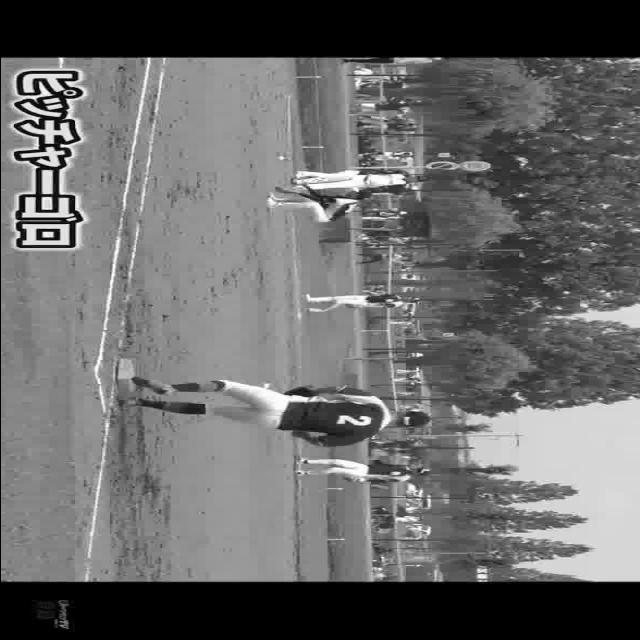base: (109, 359, 135, 402)
baseball: (274, 155, 286, 161)
baseball_glove: (286, 384, 324, 402), (271, 187, 294, 194)
shoe: (132, 374, 176, 394), (108, 396, 140, 416), (260, 194, 286, 212)
